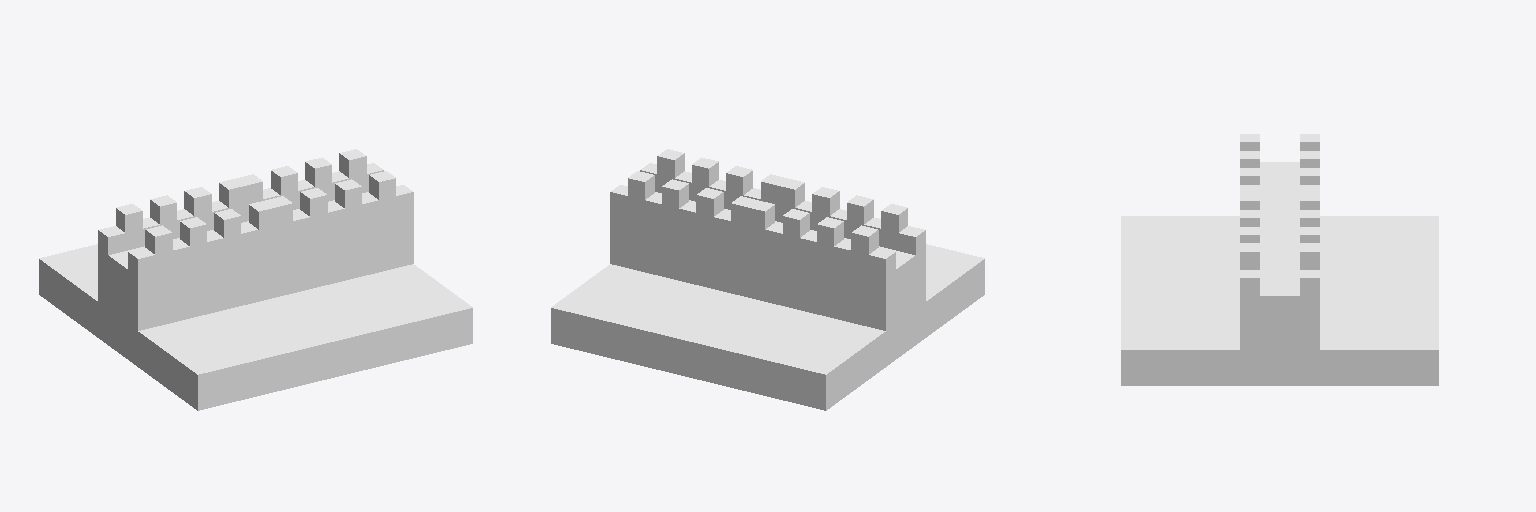
Rendered from Castle_wall_1.obj.
The picture shows the model from 3 angles: view 1: azimuth 30°, elevation 25°; view 2: azimuth 150°, elevation 25°; view 3: azimuth 270°, elevation 25°; orthographic projection.
Visible parts, largest first — view 1: object 1; view 2: object 1; view 3: object 1.
Boxes of the visible parts, box(x1,y1,x2,y2) form: object 1: box(39, 149, 472, 410); object 1: box(551, 149, 984, 410); object 1: box(1121, 134, 1438, 385).
Size of the model in its own units: 1.6 by 0.7 by 1.6.